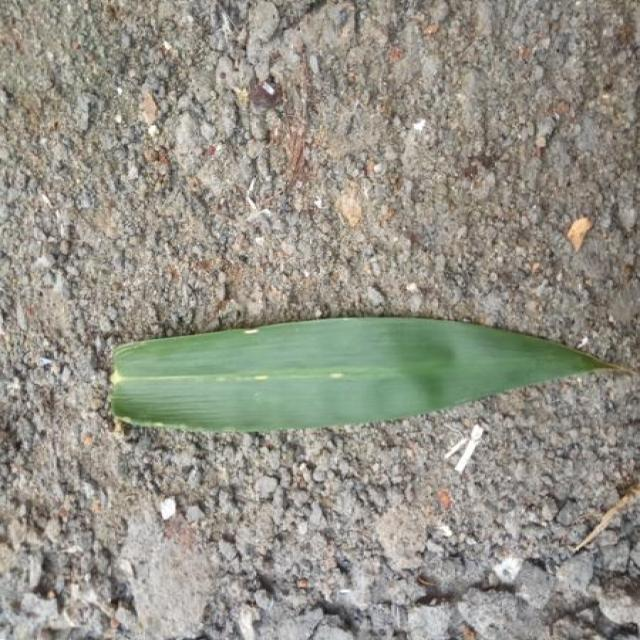Bamboo: (112, 318, 620, 431)
